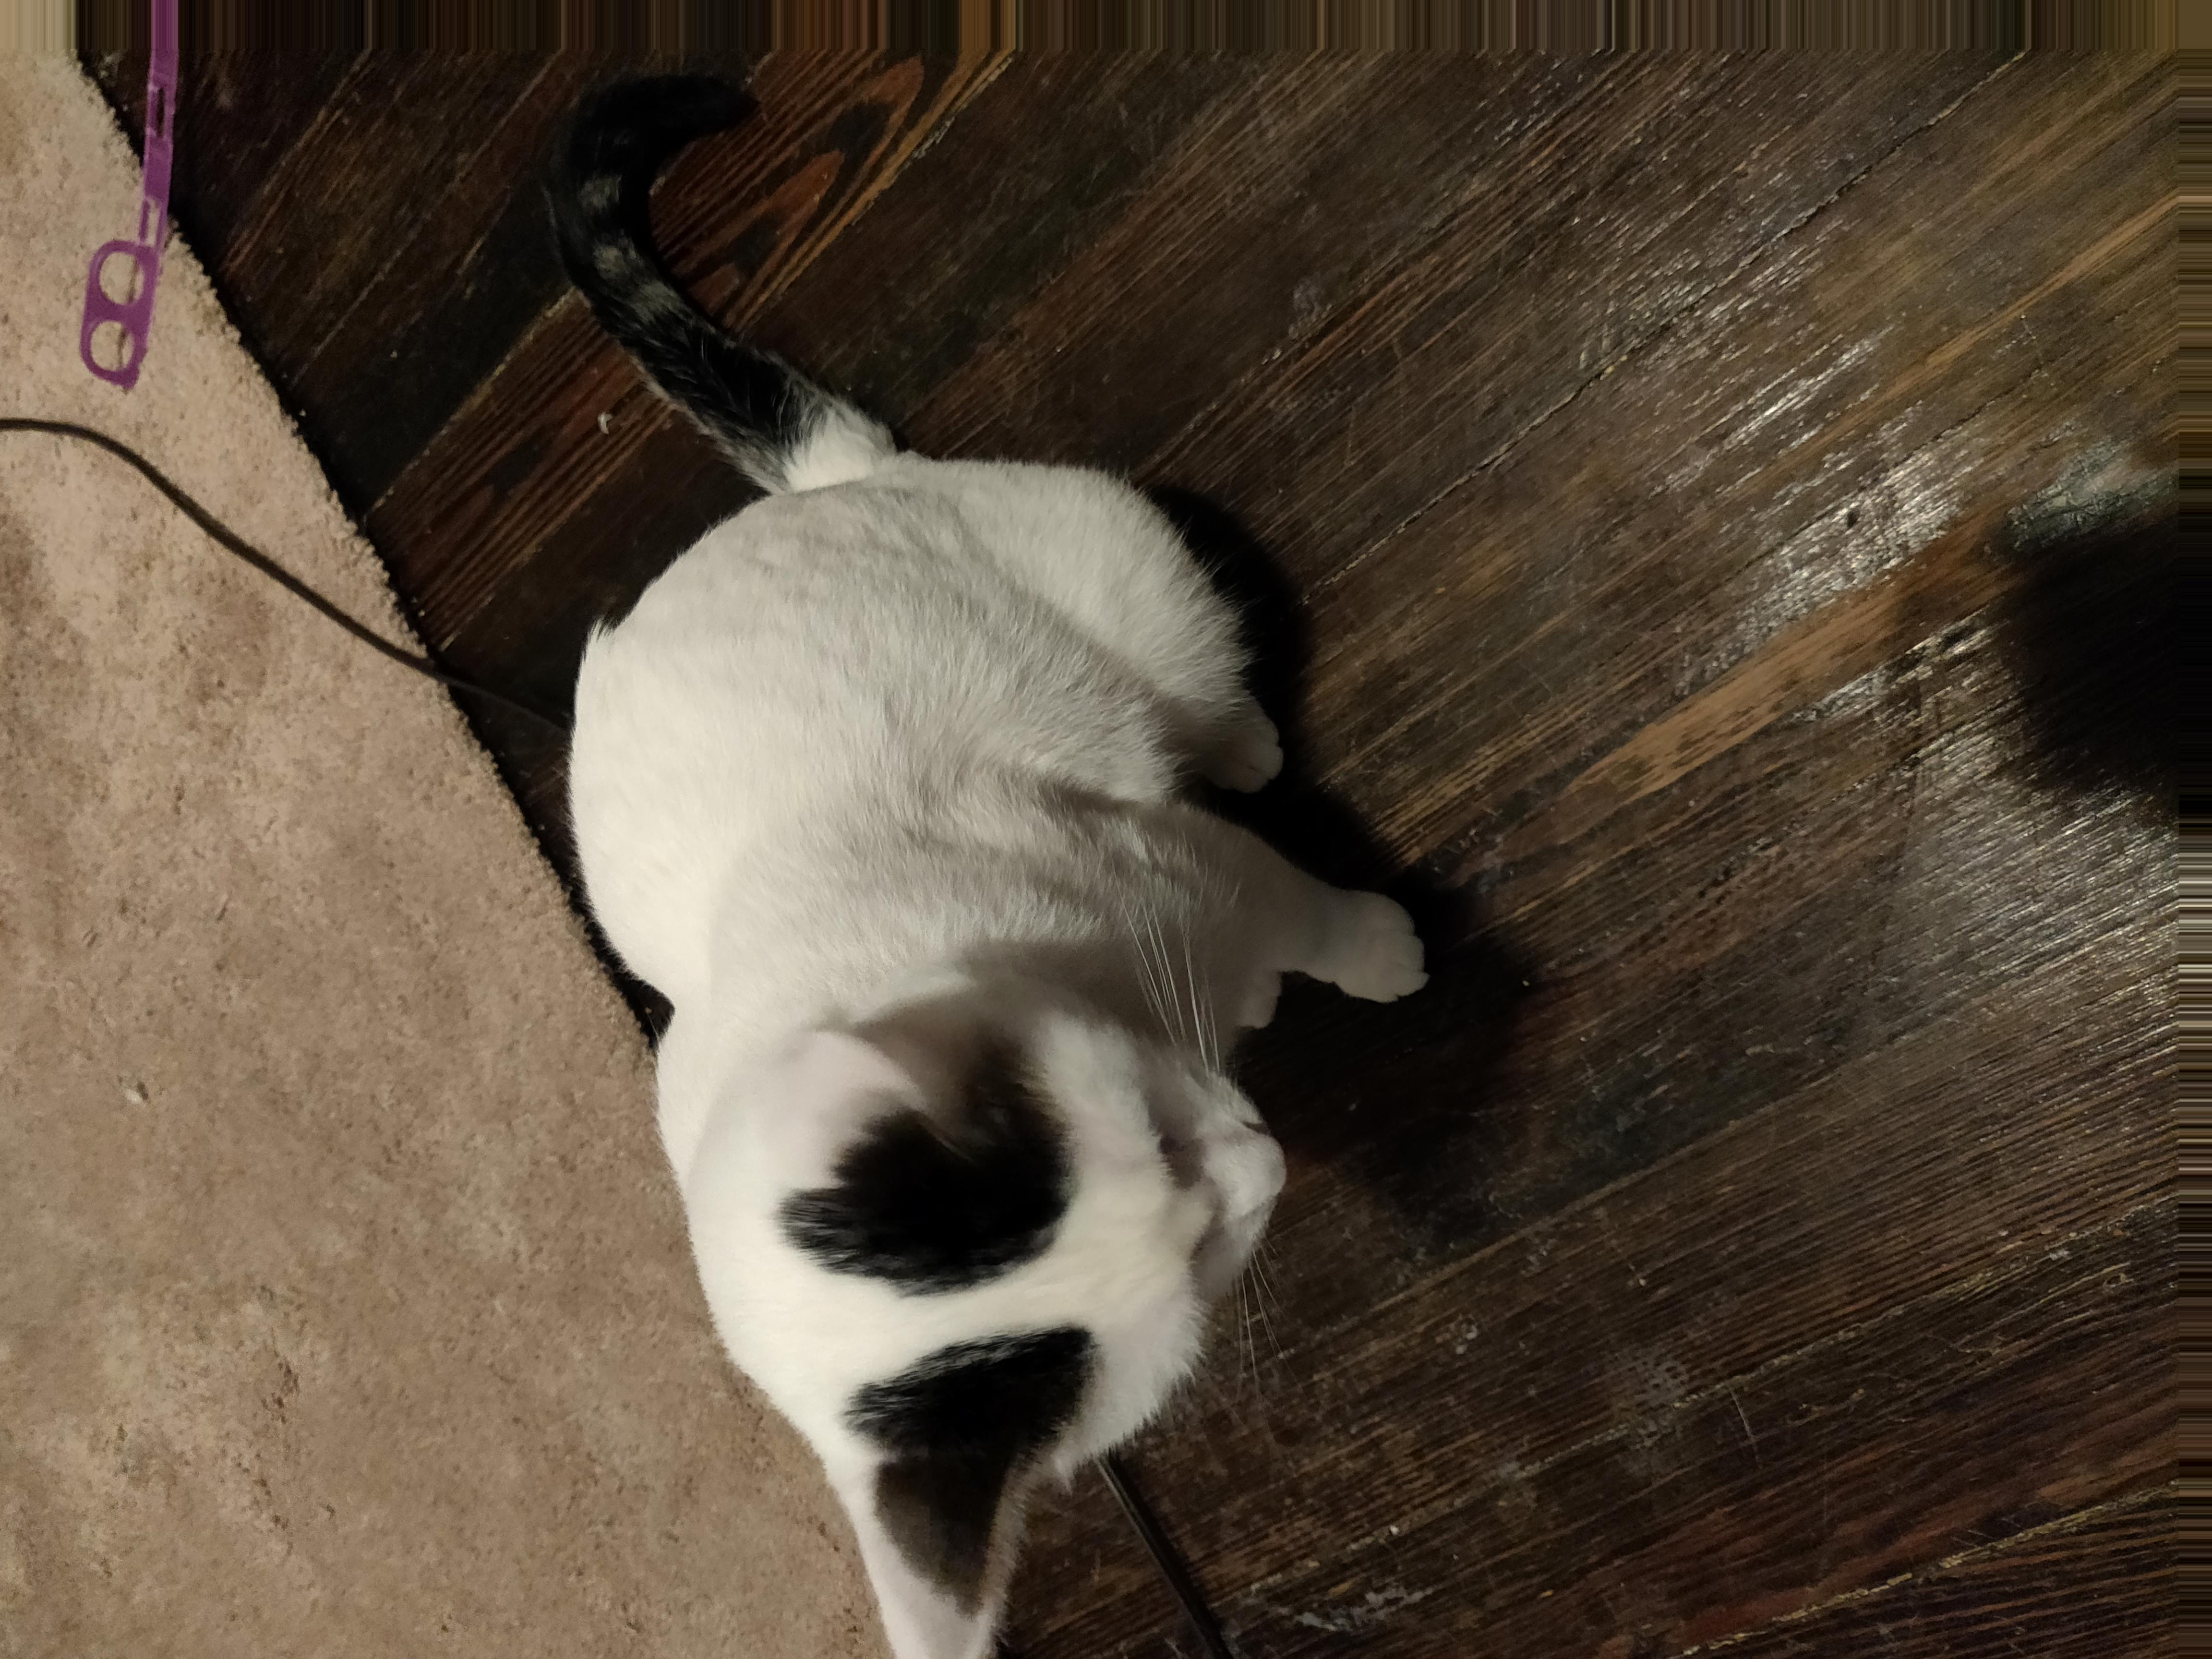cat: (545, 85, 1457, 1639)
